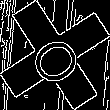O_NE: (22, 23, 88, 87)
